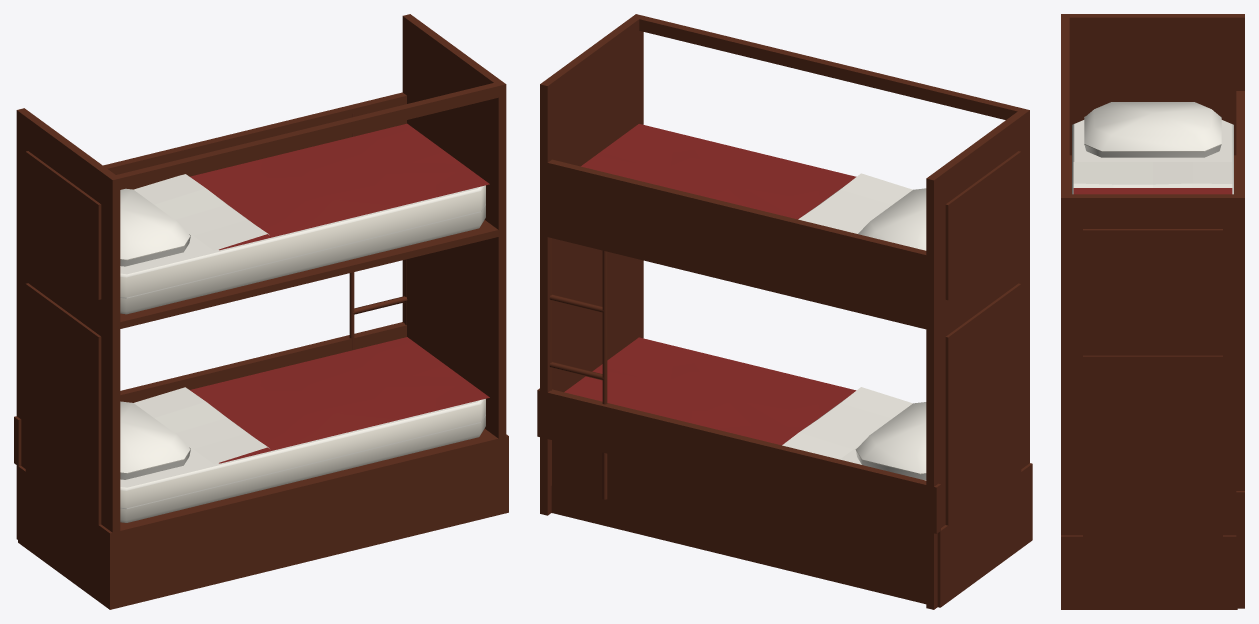
Rendered from parametric-sized-berth-double-l180-2nd.glb.
3 views of the same model, side by side, from view 1: azimuth 30°, elevation 25°; view 2: azimuth 150°, elevation 25°; view 3: azimuth 270°, elevation 25° (orthographic). The views are drawn at different scales.
Parts seen in each view (by area): view 1: parametric-sized-berth-double-l180-2nd; view 2: parametric-sized-berth-double-l180-2nd; view 3: parametric-sized-berth-double-l180-2nd.
Boxes of the visible parts, <box> form: parametric-sized-berth-double-l180-2nd: <box>14,14,508,609</box>; parametric-sized-berth-double-l180-2nd: <box>537,14,1032,609</box>; parametric-sized-berth-double-l180-2nd: <box>1061,14,1244,609</box>.
Bounding box in the file's own units: 1.8 × 1.85 × 0.75.
